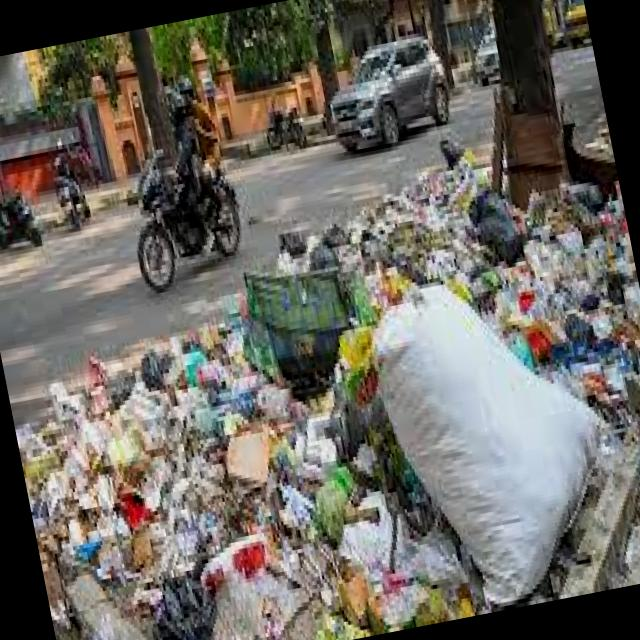garbage: (15, 155, 640, 640)
